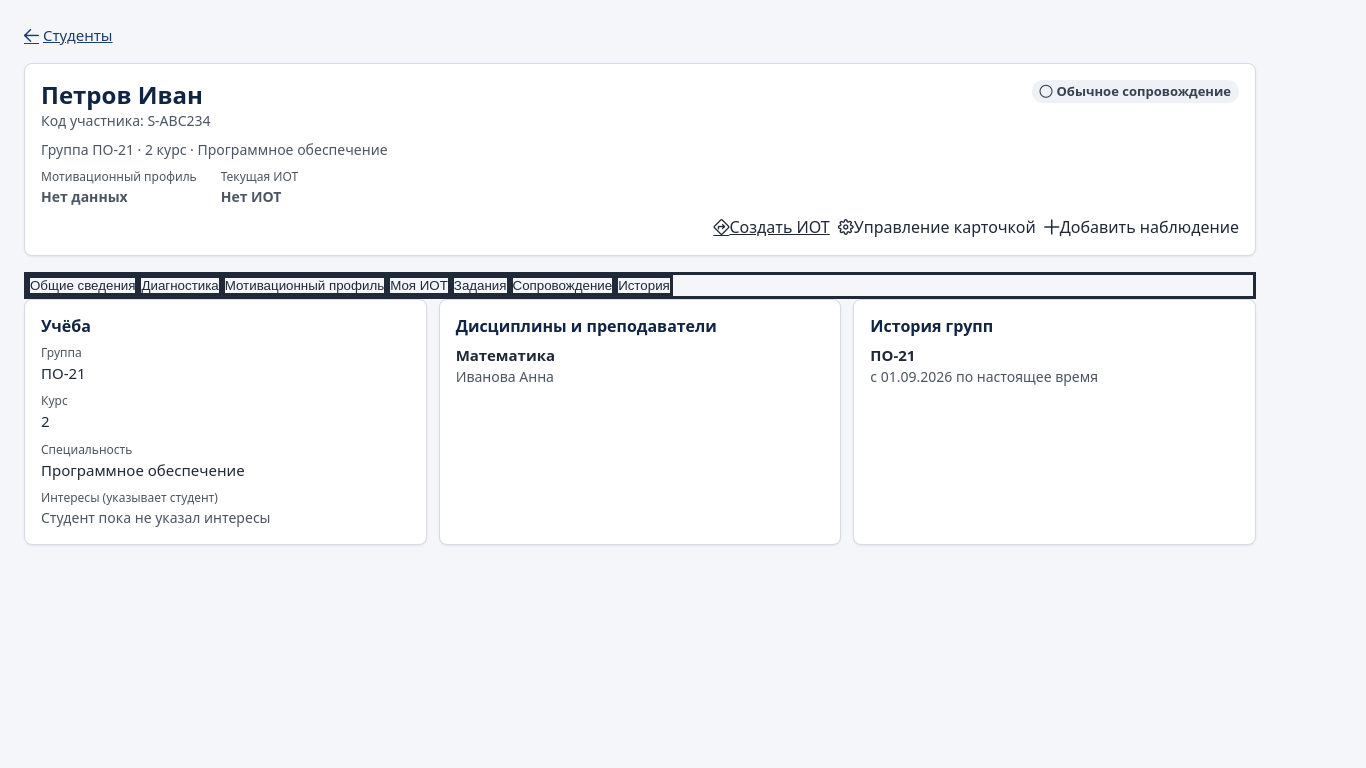
Test: StudentProfileView › FR-014, FR-016: наблюдения с датой, автором и пометкой видимости
The image size is (1366, 768).
What coordinates should you click on to do the following:
click the tab "Сопровождение"
I would click on:
 (562, 285)
Its box is [510, 274, 615, 296].
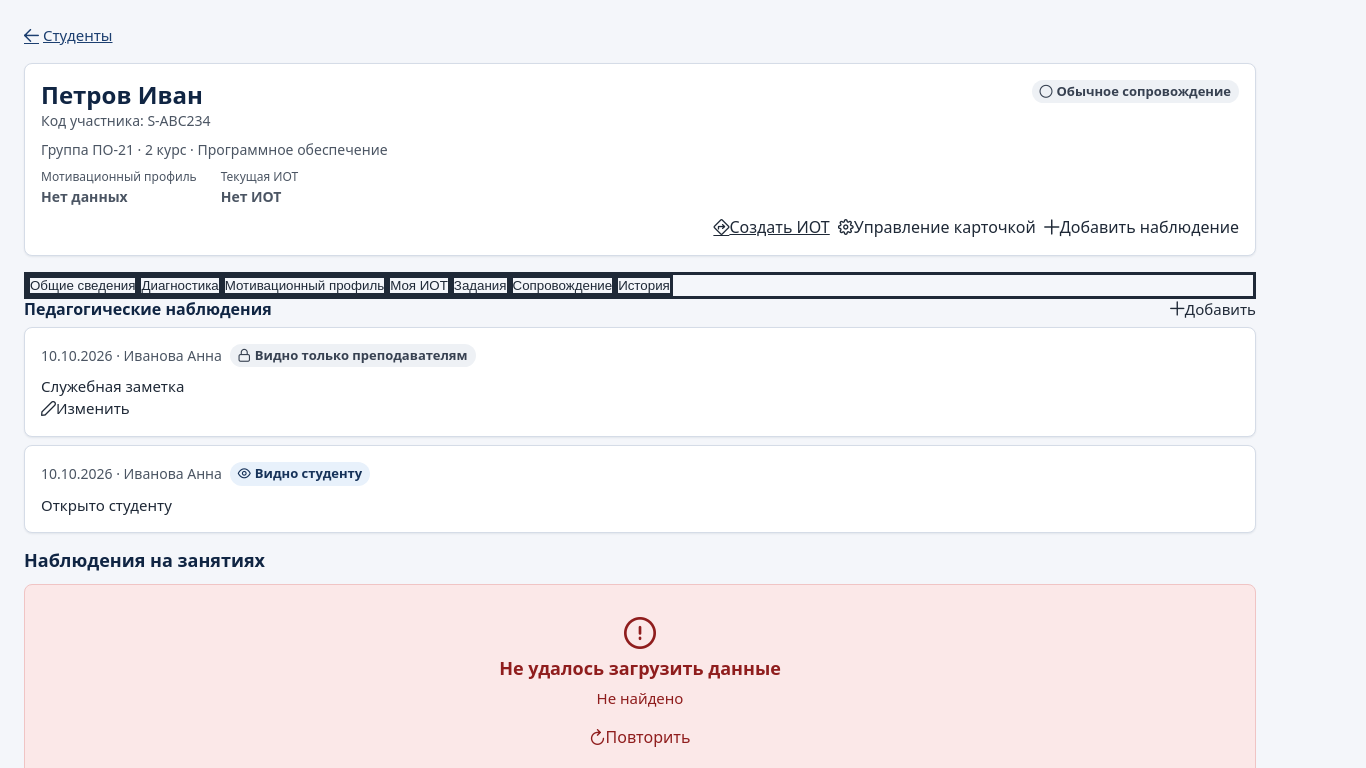
Now the text "10.10.2026 · Иванова Анна" is shown, box [41, 345, 222, 366]
Now the text "Видно только преподавателям" is shown, box [255, 346, 468, 365]
Now the text "Видно студенту" is shown, box [255, 464, 362, 484]
